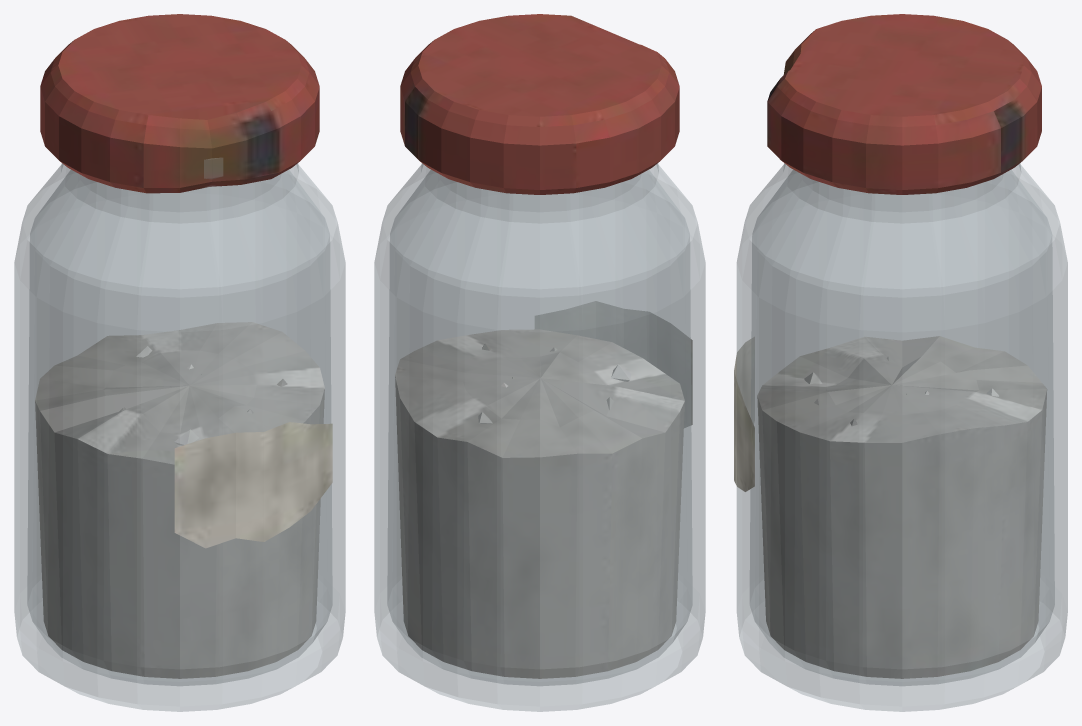
The model's file is K18_glass_jars_v1.glb.
3 views of the same model, side by side, from view 1: azimuth 30°, elevation 25°; view 2: azimuth 150°, elevation 25°; view 3: azimuth 270°, elevation 25° (orthographic).
Visible parts, largest first — view 1: Tall powder jar; view 2: Tall powder jar; view 3: Tall powder jar.
Boxes of the visible parts, bbox=[...] form: Tall powder jar: bbox=[14, 14, 345, 711]; Tall powder jar: bbox=[374, 14, 705, 711]; Tall powder jar: bbox=[734, 14, 1067, 711].
Bounding box in the file's own units: 0.128 × 0.25 × 0.129.
7 materials, 6 textured.
